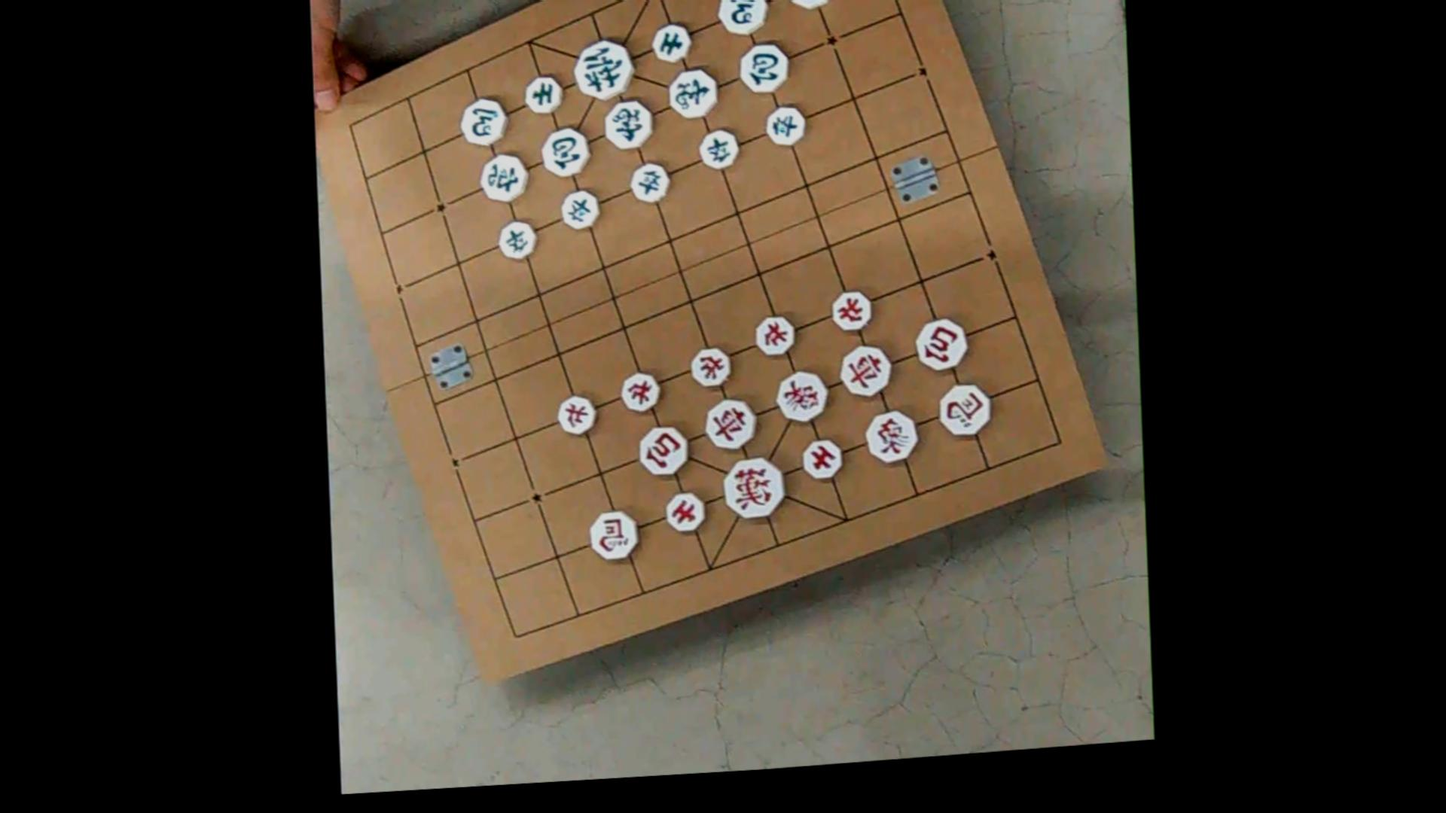cha_green: (479, 151, 529, 202), (784, 0, 837, 10)
cha_red: (839, 340, 894, 398), (705, 396, 758, 450)
jol_green: (764, 103, 807, 147), (630, 160, 670, 201), (700, 127, 740, 167), (561, 187, 599, 227), (499, 219, 537, 257)
jol_red: (831, 288, 873, 330), (755, 313, 796, 355), (691, 343, 732, 385), (557, 391, 597, 434), (621, 368, 661, 410)
ma_green: (459, 95, 509, 146), (717, 0, 770, 36)
ma_red: (938, 380, 993, 437), (589, 507, 639, 559)
po_green: (541, 125, 591, 175), (739, 41, 789, 91)
po_red: (917, 316, 968, 369), (639, 423, 690, 475)
sa_green: (523, 72, 564, 114), (652, 20, 692, 61)
sa_red: (802, 437, 844, 478), (666, 488, 706, 530)
sang_green: (603, 96, 654, 147), (668, 66, 718, 117)
sang_red: (776, 368, 829, 421), (866, 410, 919, 461)
wang_green: (574, 38, 634, 98)
wang_red: (722, 454, 786, 519)
